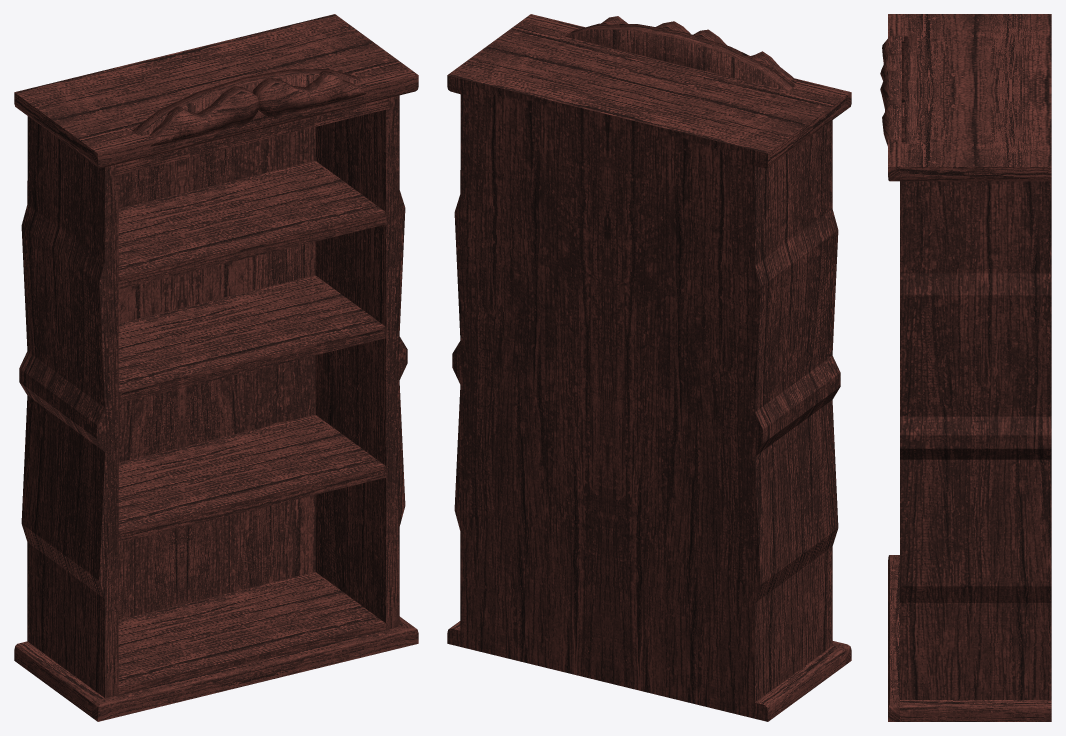
The model's file is Bookshelf - Tall.fbx.
The picture shows the model from 3 angles, left to right: view 1: azimuth 30°, elevation 25°; view 2: azimuth 150°, elevation 25°; view 3: azimuth 270°, elevation 25°; orthographic projection. The views are drawn at different scales.
Visible parts, largest first — view 1: Bookshelf - Tall; view 2: Bookshelf - Tall; view 3: Bookshelf - Tall.
Part boxes in pixels (x1,y1,x2,y2): Bookshelf - Tall: (14,14,418,721); Bookshelf - Tall: (447,14,851,721); Bookshelf - Tall: (880,14,1051,721).
Size of the model in its own units: 1.4 by 2.49 by 0.665.
